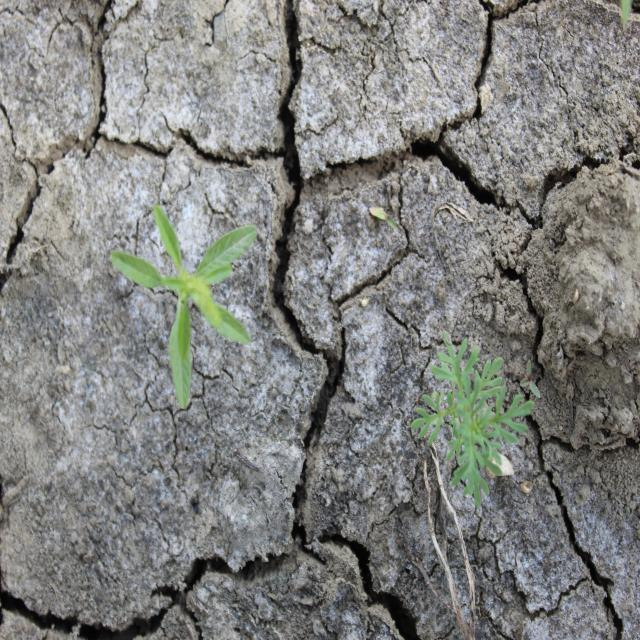Ragweed: (409, 328, 536, 510)
Waterhemp: (110, 203, 258, 410)
